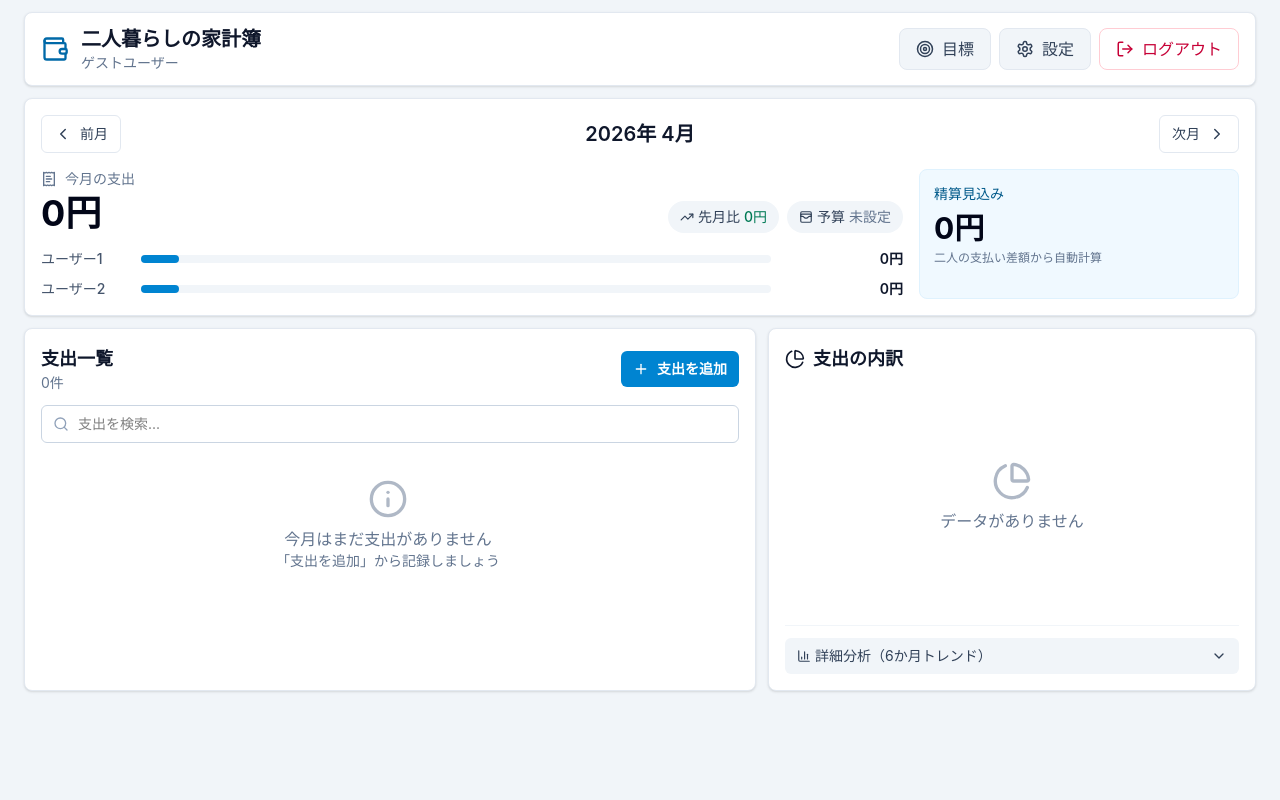
Test: Home › 検索入力をクリアできる
Type "食費" into the field with placeholder "支出を検索..." at point(390, 424), box [41,405,739,443]
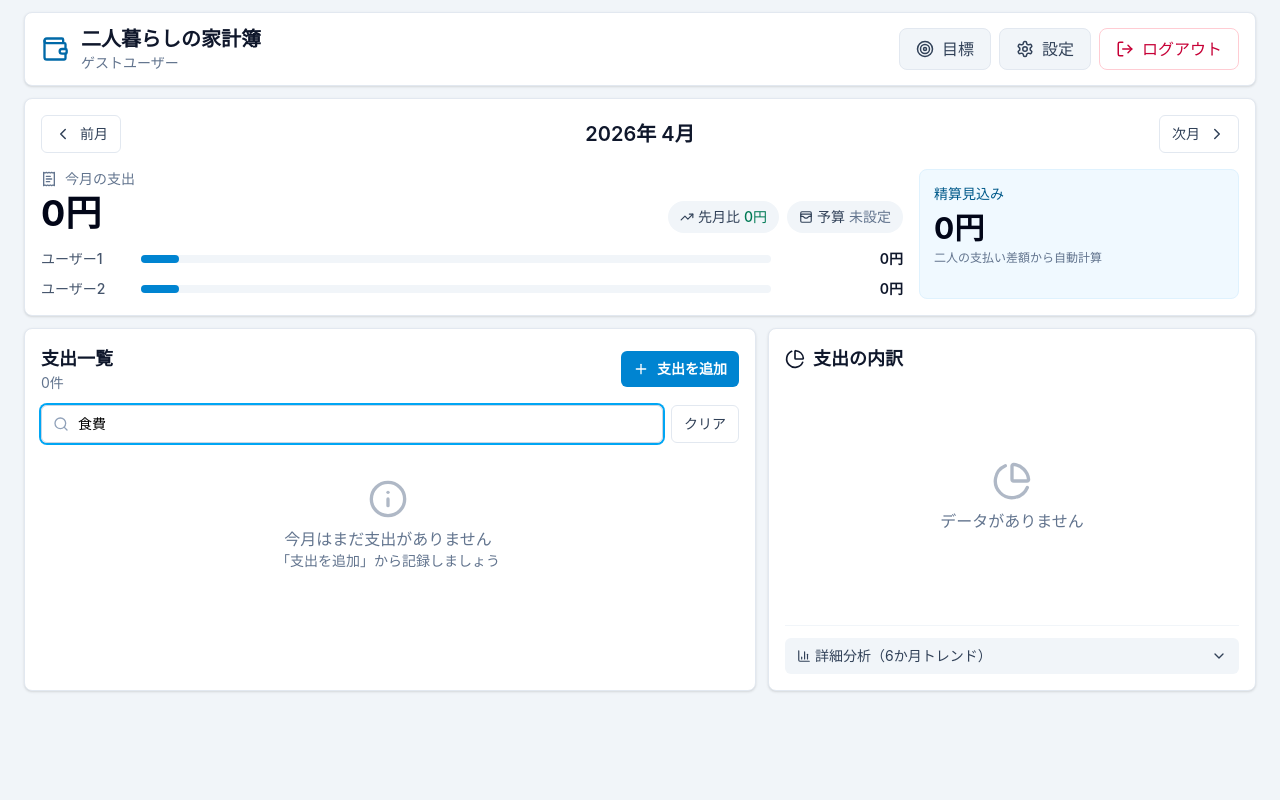
Click the button "クリア" at point(705, 424), box [671,405,739,443]
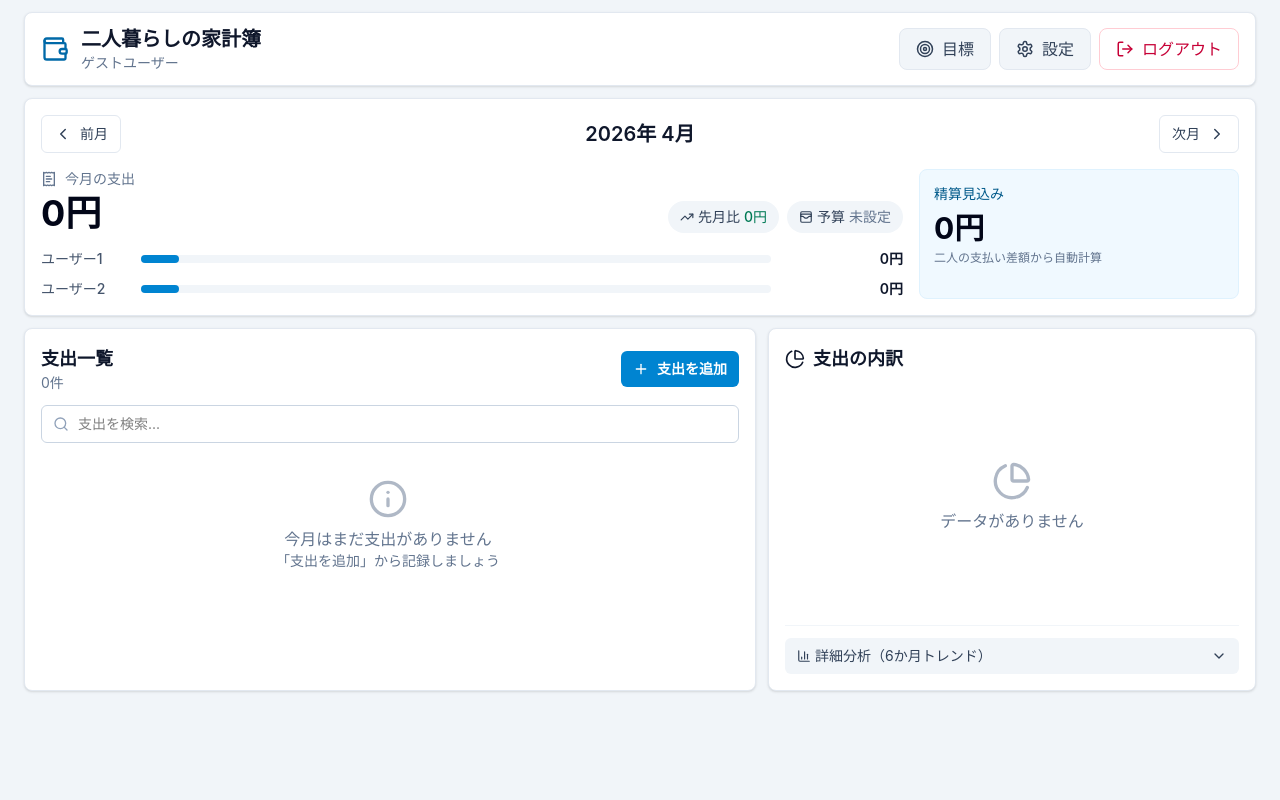
Result: the field with placeholder "支出を検索..." is empty at [41,405,739,443]
